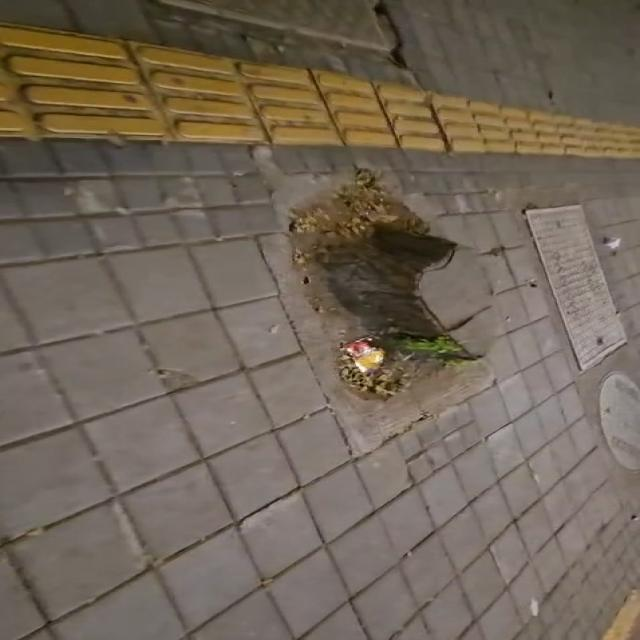obstacle: (290, 189, 500, 435)
